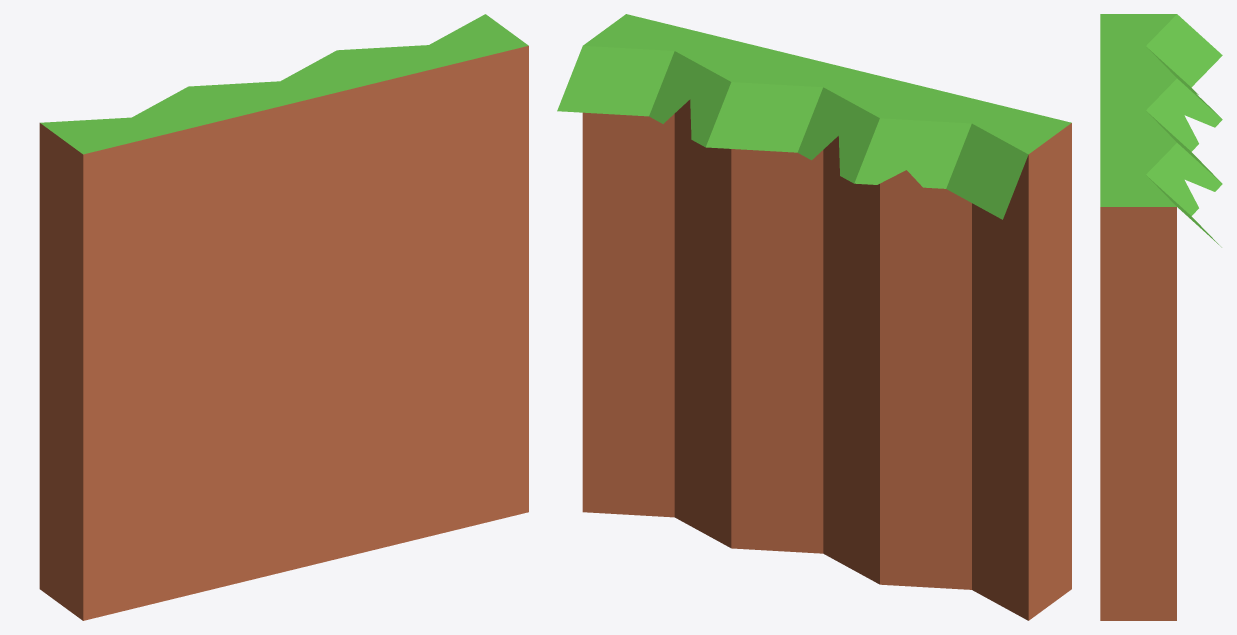
Rendered from cliff_top_rock.glb.
3 views of the same model, side by side, from view 1: azimuth 30°, elevation 25°; view 2: azimuth 150°, elevation 25°; view 3: azimuth 270°, elevation 25° (orthographic). The views are drawn at different scales.
Visible parts, largest first — view 1: cliff_top_rock; view 2: cliff_top_rock; view 3: cliff_top_rock.
Part boxes in pixels (box(x1,y1,x2,y2)): cliff_top_rock: box(39, 14, 528, 620); cliff_top_rock: box(557, 14, 1071, 620); cliff_top_rock: box(1100, 14, 1222, 620).
Size of the model in its own units: 1 by 1 by 0.2685.
